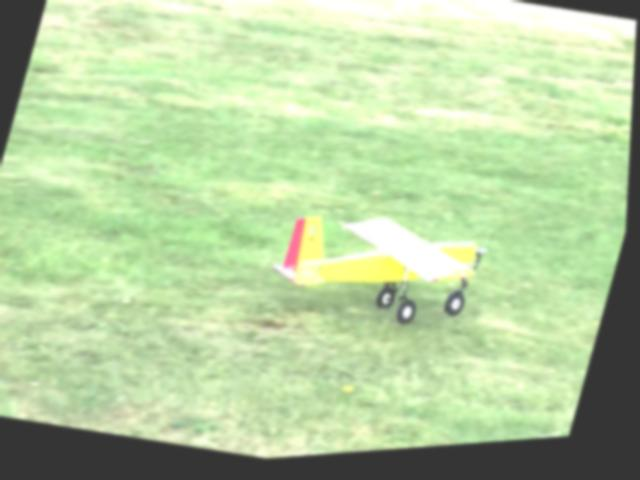plane: (262, 197, 495, 355)
